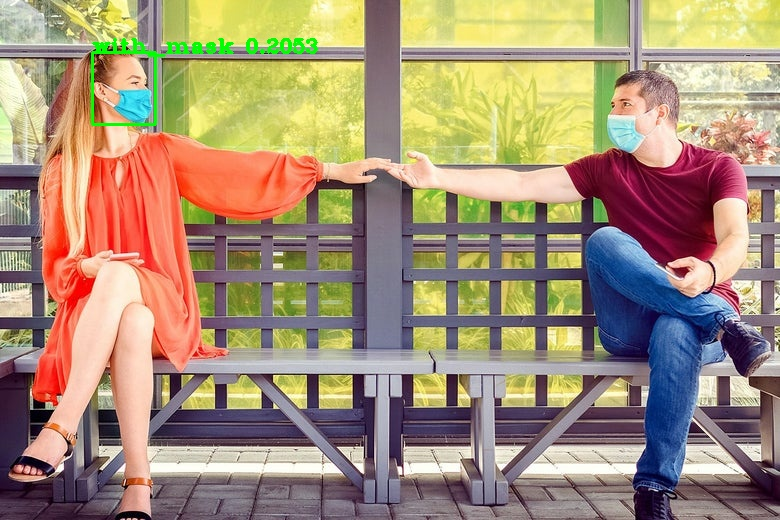with_mask: (598, 74, 687, 164), (76, 45, 161, 135)
